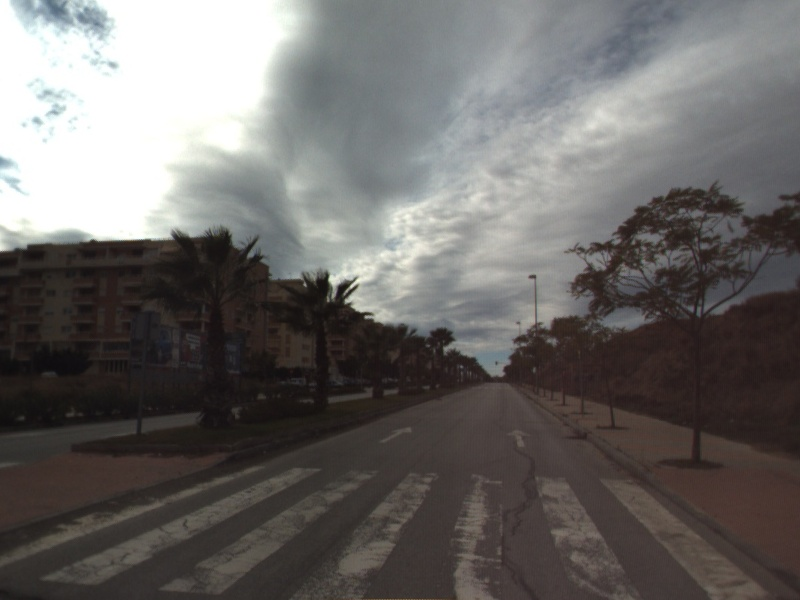STRAIGHT: (377, 425, 414, 445), (504, 427, 534, 449)
